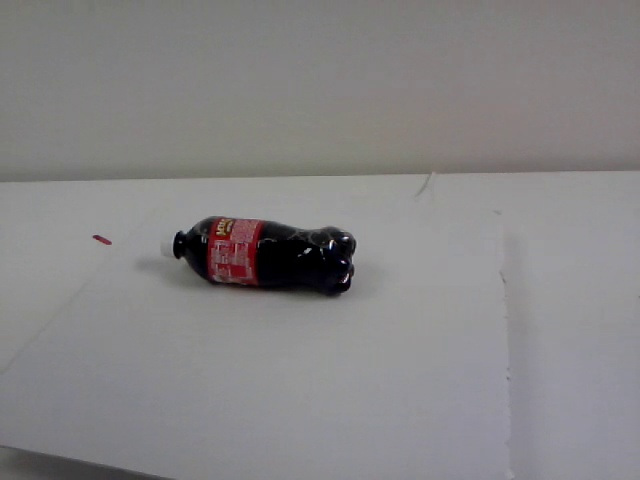botolplastik: (163, 217, 355, 296)
